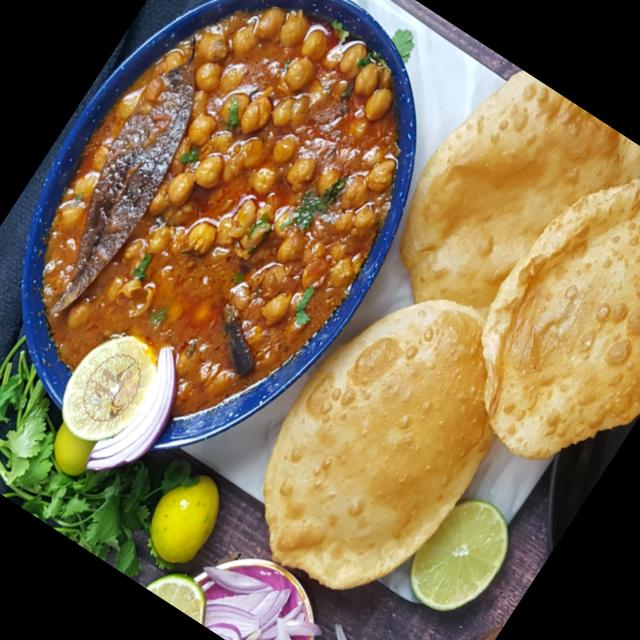Chole: (0, 0, 467, 479)
